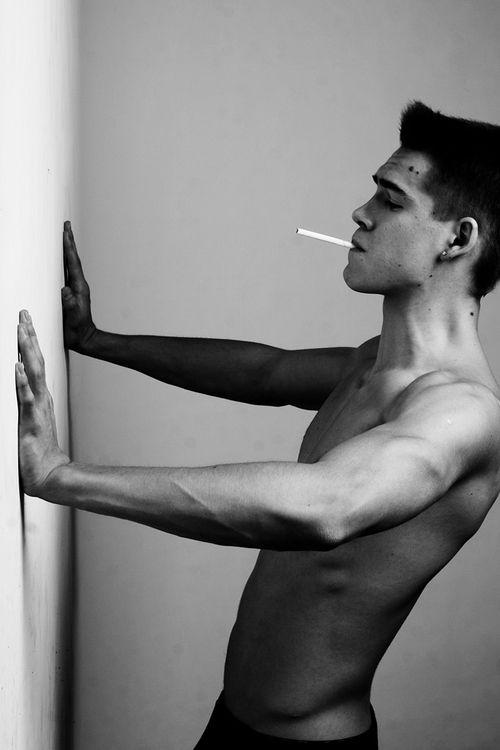cigarette: (296, 227, 356, 248)
